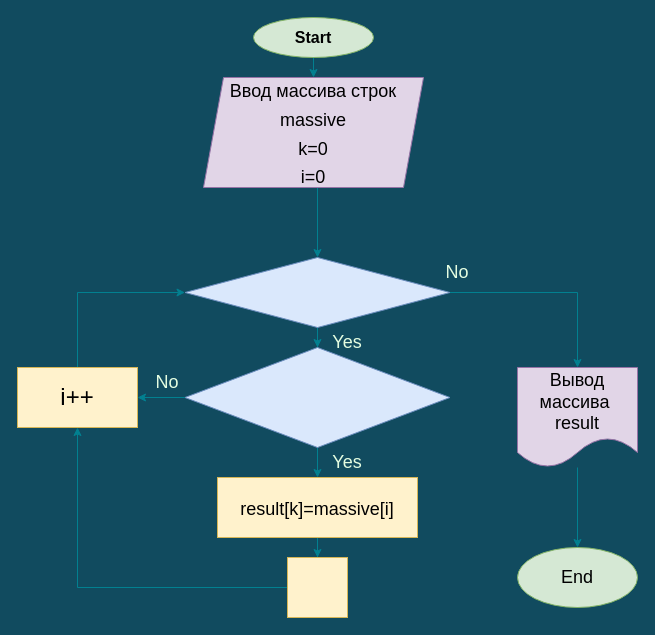
Some shapes in this 655 by 635 pixel diagram are drawn without their labels. The shapes that lost their labels are listed below. From the top down, each one's box as (x1, y1, x2, y2) in pixels, then its label:
(184, 256, 450, 328): i<massive.Length?
(184, 346, 450, 448): Длина massive[i]<=3?
(286, 556, 348, 618): k++
